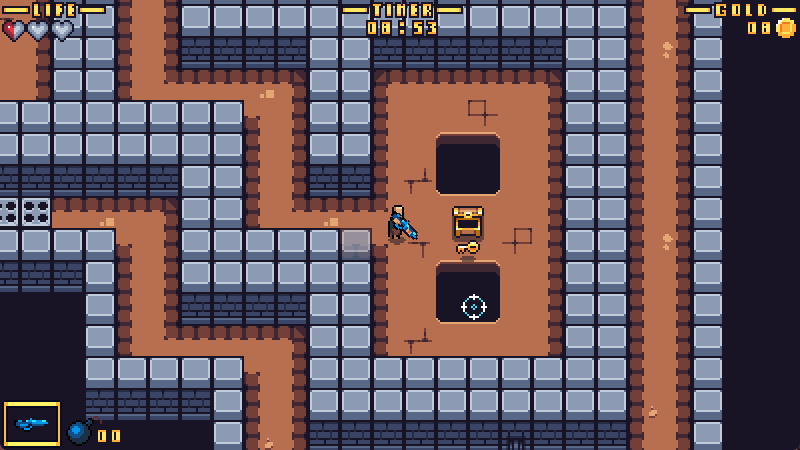aim: (460, 292, 488, 320)
health-5: (1, 18, 74, 41)
key: (455, 240, 479, 257)
player: (387, 204, 418, 242)
trap_off: (1, 196, 50, 251)
treasury_open: (452, 207, 484, 238)
